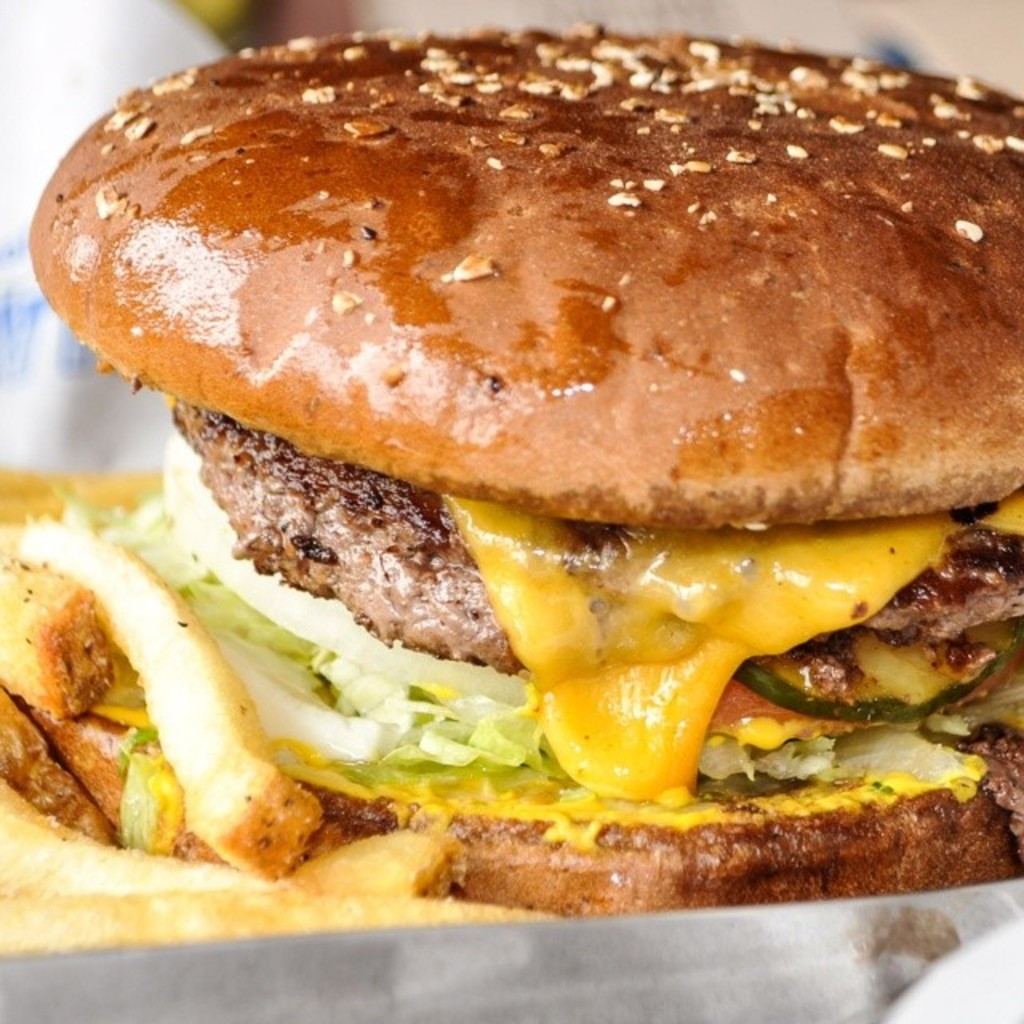Hamburger: (25, 17, 1022, 920)
